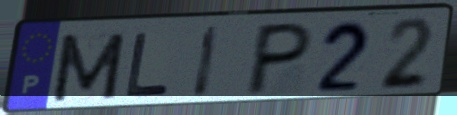2: (309, 15, 377, 98), (379, 15, 438, 93)
I: (190, 23, 224, 100)
L: (123, 30, 174, 100)
M: (48, 30, 129, 104)
P: (241, 20, 318, 99)
